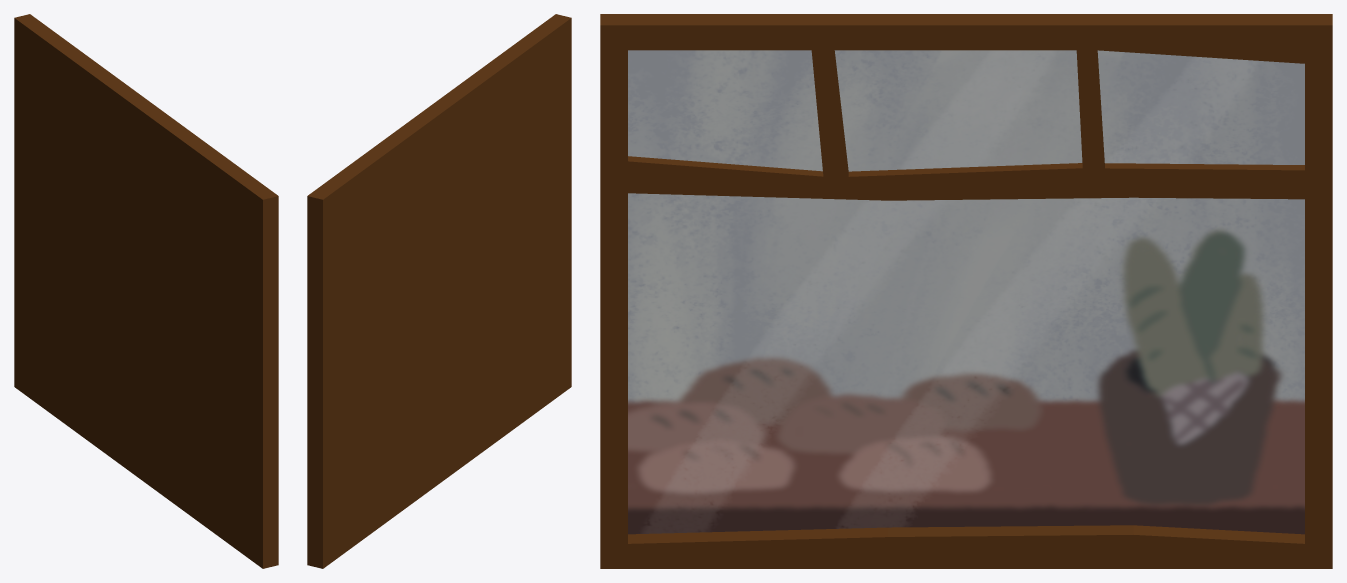
Rendered from ButcherWindow.fbx.
3 renders of one model, left to right at view 1: azimuth 30°, elevation 25°; view 2: azimuth 150°, elevation 25°; view 3: azimuth 270°, elevation 25°, orthographic. The views are drawn at different scales.
Visible parts, largest first — view 1: Cube.002; view 2: Cube.002; view 3: Cube.002.
Part boxes in pixels (box(x1,y1,x2,y2)): Cube.002: box(14, 14, 278, 568); Cube.002: box(307, 14, 571, 568); Cube.002: box(600, 14, 1332, 568).
Size of the model in its own units: 11.31 by 254 by 310.
